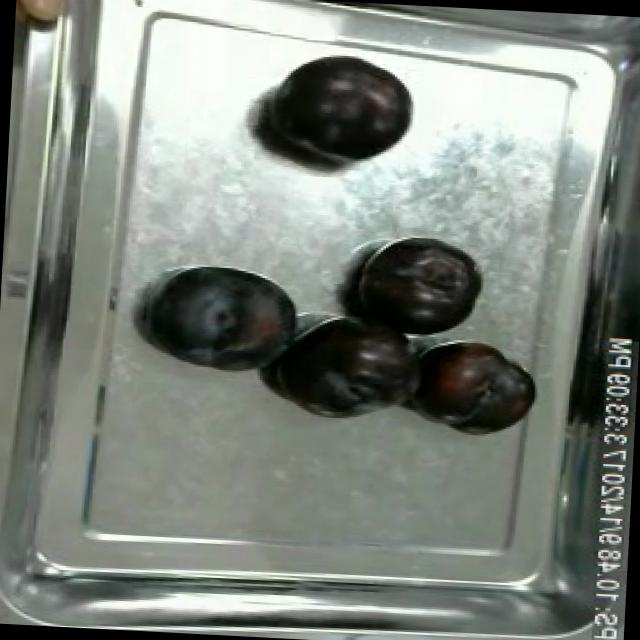Fruit: (254, 46, 421, 176), (143, 255, 313, 381), (262, 305, 434, 426), (342, 232, 491, 341), (408, 331, 540, 443)
